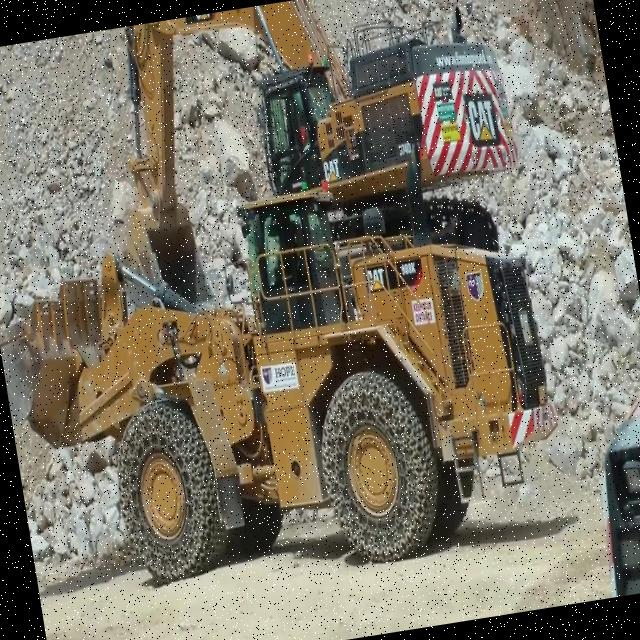Excavator: (88, 0, 530, 306)
Loader: (0, 152, 579, 617)
